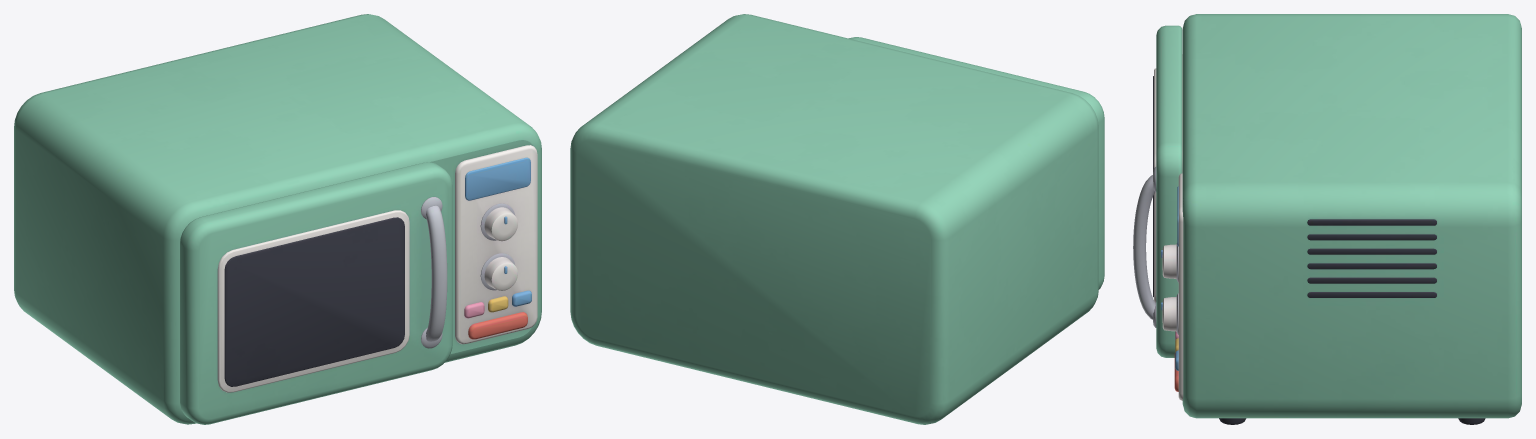
File: microwave.glb
3 renders of one model, left to right at view 1: azimuth 30°, elevation 25°; view 2: azimuth 150°, elevation 25°; view 3: azimuth 270°, elevation 25°, orthographic. The views are drawn at different scales.
Visible parts, largest first — view 1: microwave_body, microwave_door; view 2: microwave_body, microwave_door; view 3: microwave_body, microwave_door.
Part boxes in pixels (x1,y1,x2,y2): microwave_body: [14, 14, 541, 424]; microwave_door: [180, 162, 452, 424]; microwave_body: [570, 14, 1098, 424]; microwave_door: [849, 37, 1104, 289]; microwave_body: [1161, 14, 1521, 424]; microwave_door: [1133, 25, 1182, 357].
Bounding box in the file's own units: 0.4608 × 0.27 × 0.3898.
Materials: 2 (2 with a texture image).
